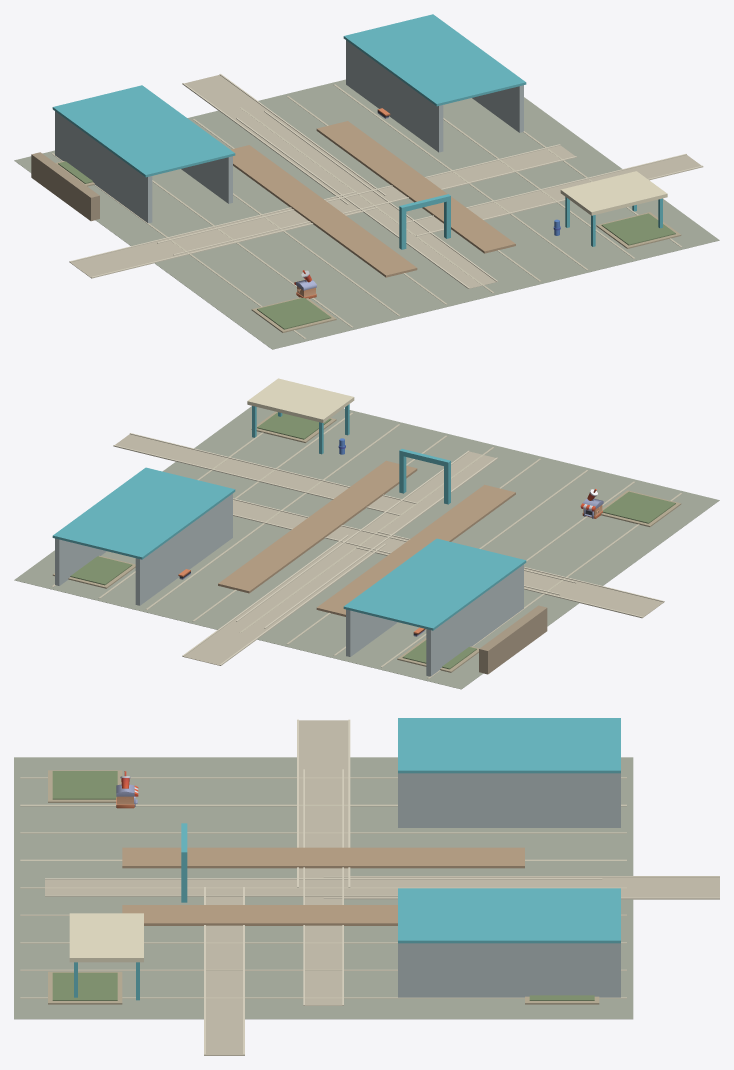
The model's file is gardens-5-5.glb.
The picture shows the model from 3 angles, top to bottom: view 1: azimuth 30°, elevation 25°; view 2: azimuth 150°, elevation 25°; view 3: azimuth 270°, elevation 25°; orthographic projection. The views are drawn at different scales.
Parts seen in each view (by area): view 1: gardens-5-5; view 2: gardens-5-5; view 3: gardens-5-5.
Part boxes in pixels (left/top/right/bottom): gardens-5-5: left=14, top=14, right=719, bottom=349; gardens-5-5: left=14, top=378, right=719, bottom=689; gardens-5-5: left=14, top=718, right=719, bottom=1055.
Bounding box in the file's own units: 256 × 21 × 228.
Materials: 15 (4 with a texture image).
